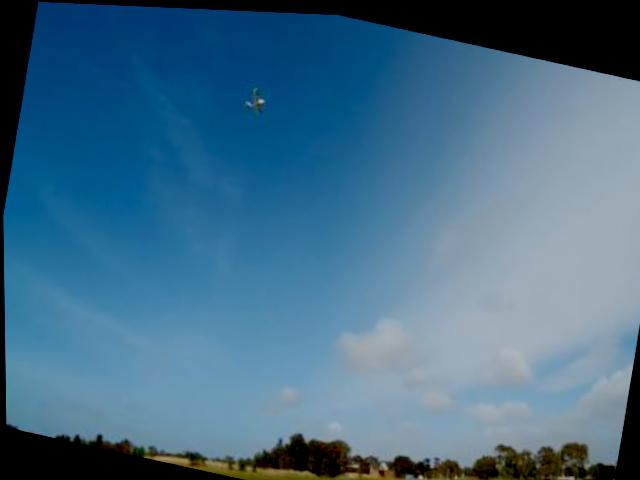uav: (236, 75, 274, 122)
